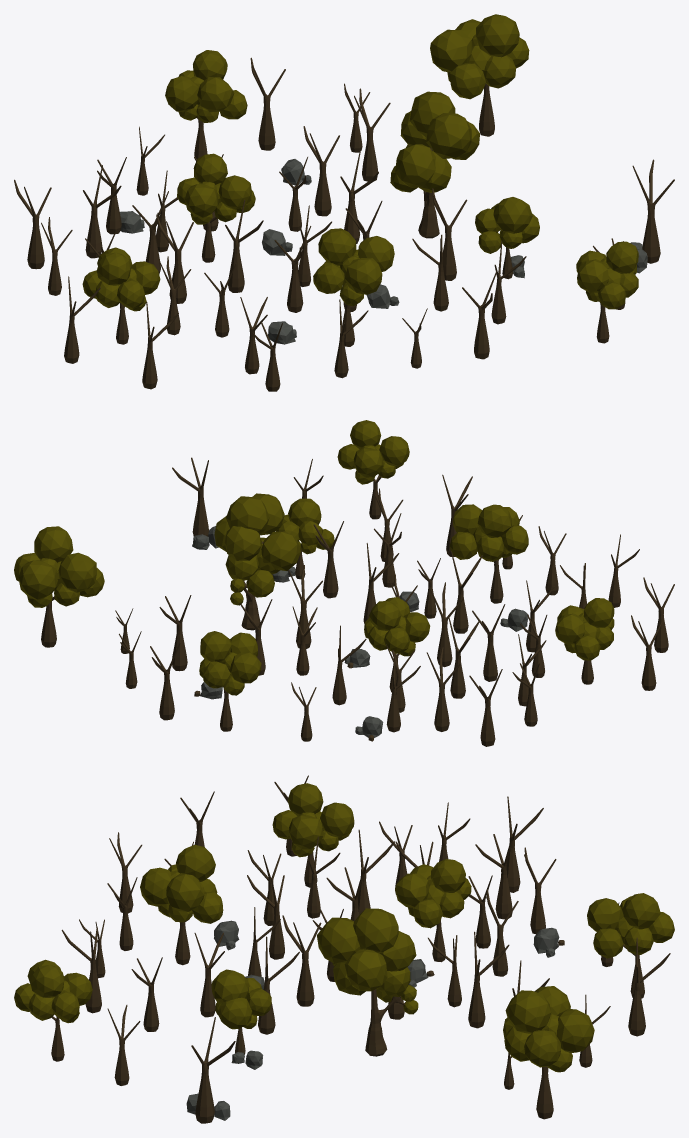
Rendered from ambienteAbejaFeo.fbx.
3 renders of one model, top to bottom at view 1: azimuth 30°, elevation 25°; view 2: azimuth 150°, elevation 25°; view 3: azimuth 270°, elevation 25°, orthographic. The views are drawn at different scales.
Parts seen in each view (by area): view 1: hojas2, hojas3, hojas3.011, hojas3.008, hojas3.012, hojas3.018, hojas3.015, hojas4, rama3, rama5.036, rama5.007, rama5.005 (+24 smaller); view 2: hojas2, hojas3, hojas3.011, hojas3.008, hojas3.015, hojas3.018, hojas3.012, hojas4, rama3, rama5.034, rama5.010, rama5.002 (+20 smaller); view 3: hojas2, hojas3, hojas3.011, hojas3.008, hojas3.018, hojas3.012, hojas3.015, hojas4, rama3, rama5.022, rama1, rama5.005 (+19 smaller).
Part boxes in pixels (x1=…): hojas2: x1=390, y1=91, x2=479, y2=192; hojas3: x1=430, y1=14, x2=529, y2=99; hojas3.011: x1=313, y1=228, x2=394, y2=306; hojas3.008: x1=165, y1=50, x2=247, y2=122; hojas3.012: x1=177, y1=153, x2=255, y2=224; hojas3.018: x1=82, y1=247, x2=160, y2=311; hojas3.015: x1=576, y1=241, x2=638, y2=309; hojas4: x1=475, y1=197, x2=539, y2=253; rama3: x1=632, y1=159, x2=674, y2=263; rama5.036: x1=14, y1=179, x2=51, y2=269; rama5.007: x1=303, y1=126, x2=339, y2=216; rama5.005: x1=250, y1=57, x2=285, y2=150; hojas2: x1=214, y1=493, x2=300, y2=605; hojas3: x1=14, y1=526, x2=104, y2=607; hojas3.011: x1=449, y1=504, x2=528, y2=561; hojas3.008: x1=199, y1=631, x2=261, y2=695; hojas3.015: x1=337, y1=420, x2=409, y2=484; hojas3.018: x1=555, y1=598, x2=614, y2=660; hojas3.012: x1=364, y1=597, x2=430, y2=656; hojas4: x1=276, y1=498, x2=334, y2=554; rama3: x1=172, y1=457, x2=208, y2=536; rama5.034: x1=426, y1=647, x2=461, y2=731; rama5.010: x1=429, y1=582, x2=463, y2=667; rama5.002: x1=159, y1=595, x2=191, y2=671; hojas2: x1=317, y1=908, x2=418, y2=1014; hojas3: x1=503, y1=986, x2=594, y2=1072; hojas3.011: x1=140, y1=844, x2=223, y2=923; hojas3.008: x1=587, y1=893, x2=674, y2=958; hojas3.018: x1=272, y1=783, x2=354, y2=857; hojas3.012: x1=395, y1=859, x2=471, y2=928; hojas3.015: x1=14, y1=959, x2=92, y2=1023; hojas4: x1=211, y1=969, x2=271, y2=1029; rama3: x1=191, y1=1017, x2=235, y2=1123; rama5.022: x1=282, y1=915, x2=321, y2=1006; rama1: x1=365, y1=989, x2=404, y2=1056; rama5.005: x1=628, y1=937, x2=670, y2=1036.
Size of the model in its own units: 50.36 by 12.33 by 48.31.
